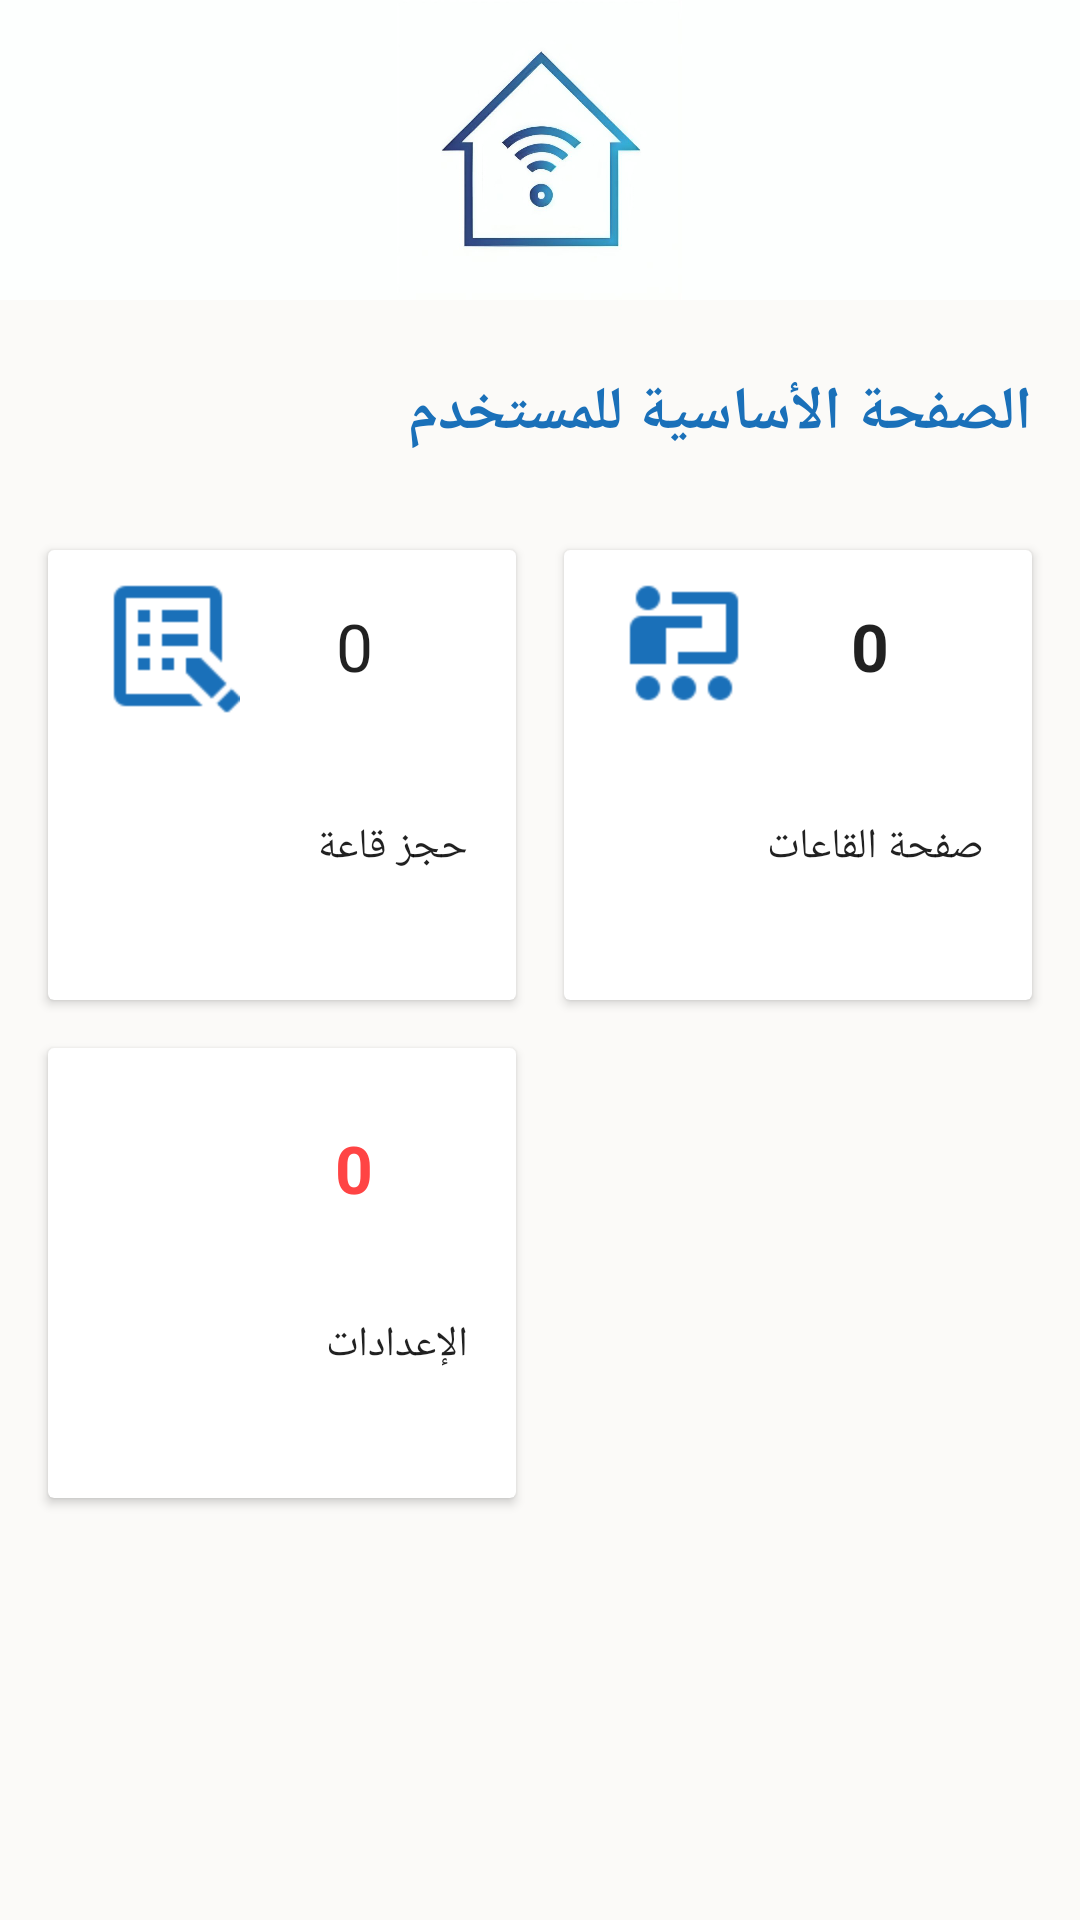

Named icons in this screenshot (1080px x 1920px) and their bounding boxes, [x1,y1,x2,y2]:
classroom: [629,585,739,701]
reserve: [113,585,240,713]
